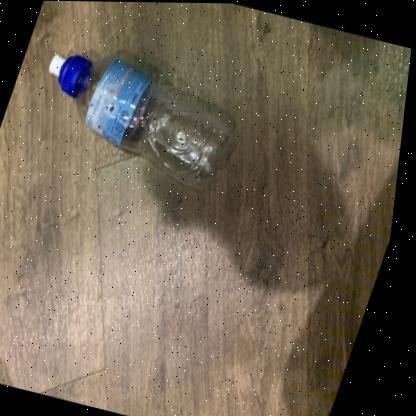Plastic: (50, 54, 237, 187)
